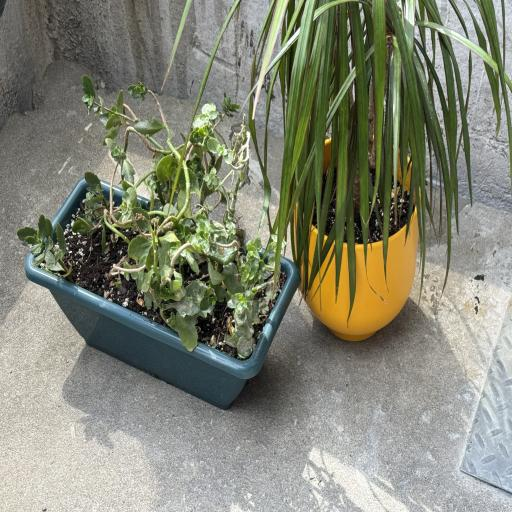Plant Pot: (289, 134, 421, 338)
